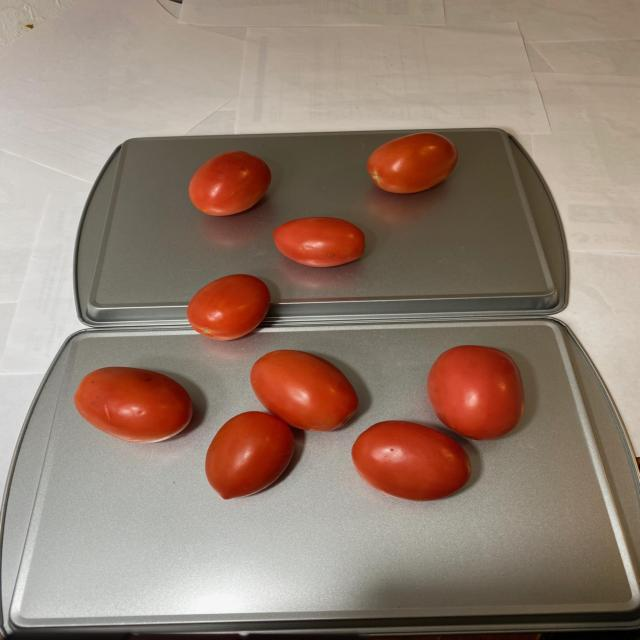tomato: (70, 271, 531, 506), (187, 132, 458, 266)
